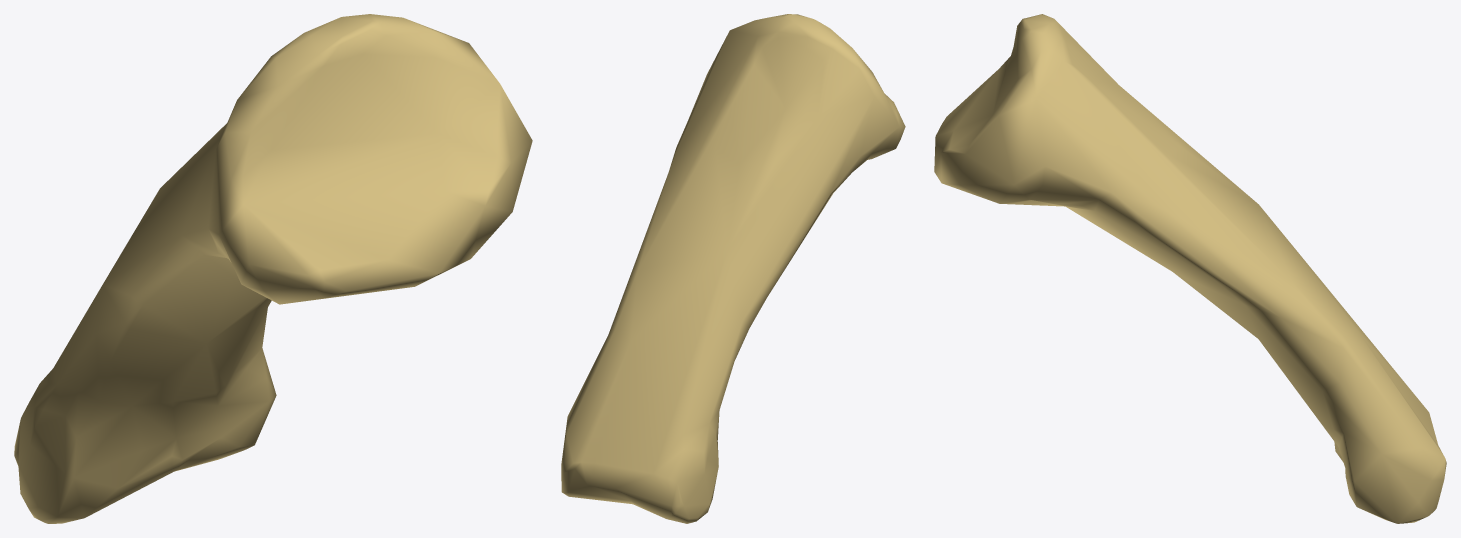
3 renders of one model, left to right at view 1: azimuth 30°, elevation 25°; view 2: azimuth 150°, elevation 25°; view 3: azimuth 270°, elevation 25°, orthographic. The views are drawn at different scales.
Parts seen in each view (by area): view 1: 左侧第四指中节指骨; view 2: 左侧第四指中节指骨; view 3: 左侧第四指中节指骨.
Part boxes in pixels (x1=…): 左侧第四指中节指骨: x1=14, y1=14, x2=532, y2=523; 左侧第四指中节指骨: x1=561, y1=14, x2=905, y2=523; 左侧第四指中节指骨: x1=934, y1=14, x2=1446, y2=523.
Bounding box in the file's own units: 0.0185 × 0.0369 × 0.0366.
